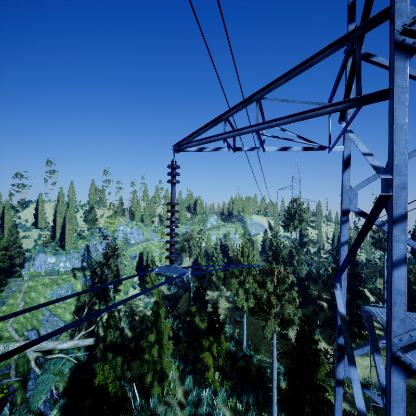insulator: (163, 163, 183, 264)
